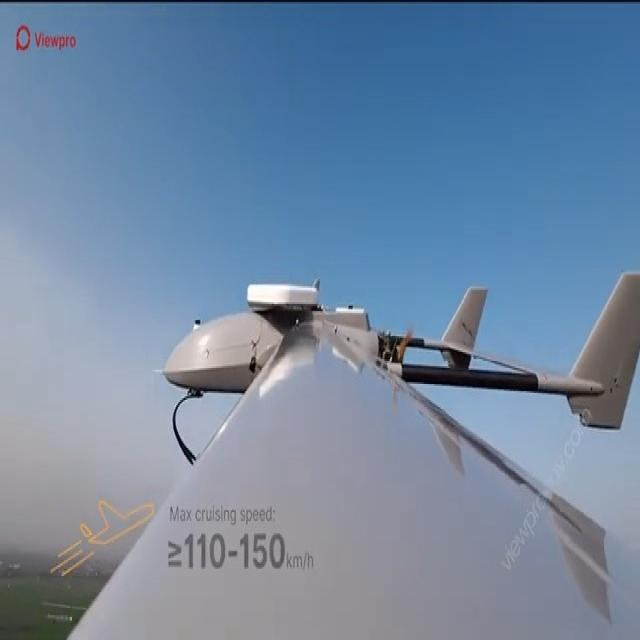drones: (157, 255, 638, 541)
